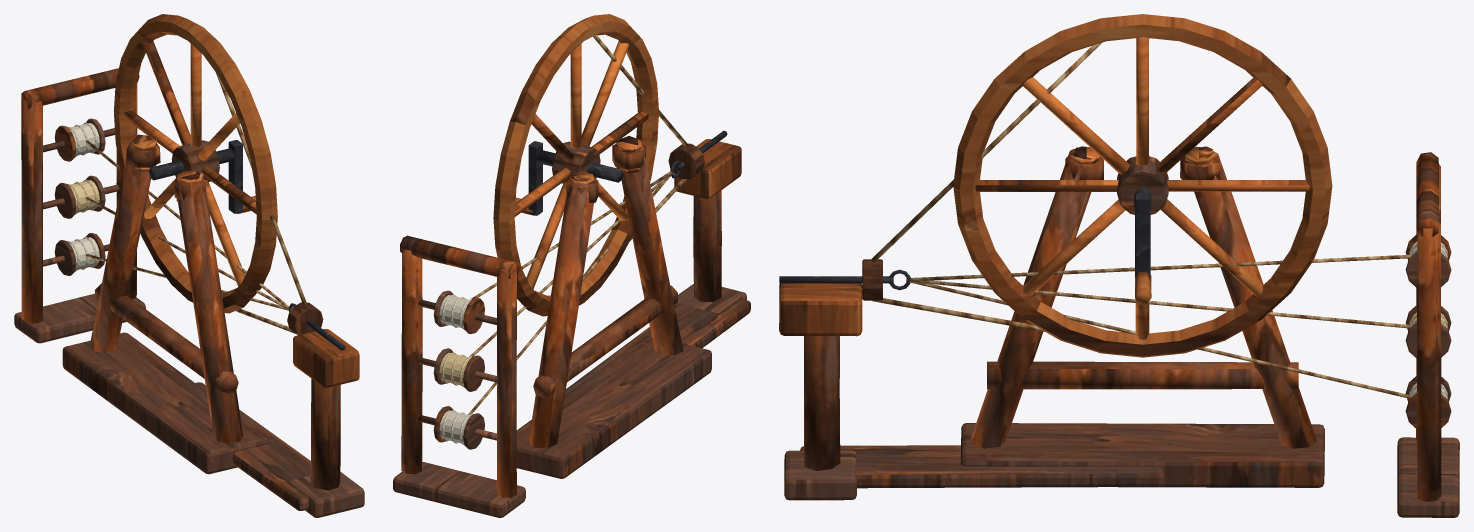
The model's file is lw_wick_twisting_wheel.glb.
3 views of the same model, side by side, from view 1: azimuth 30°, elevation 25°; view 2: azimuth 150°, elevation 25°; view 3: azimuth 270°, elevation 25° (orthographic). The views are drawn at different scales.
Parts seen in each view (by area): view 1: model; view 2: model; view 3: model.
Part boxes in pixels (left/top/right/bottom): model: left=14, top=14, right=364, bottom=517; model: left=393, top=14, right=750, bottom=517; model: left=779, top=14, right=1459, bottom=517.
Bounding box in the file's own units: 0.3816 × 1.01 × 1.31.
Materials: 17 (15 with a texture image).
